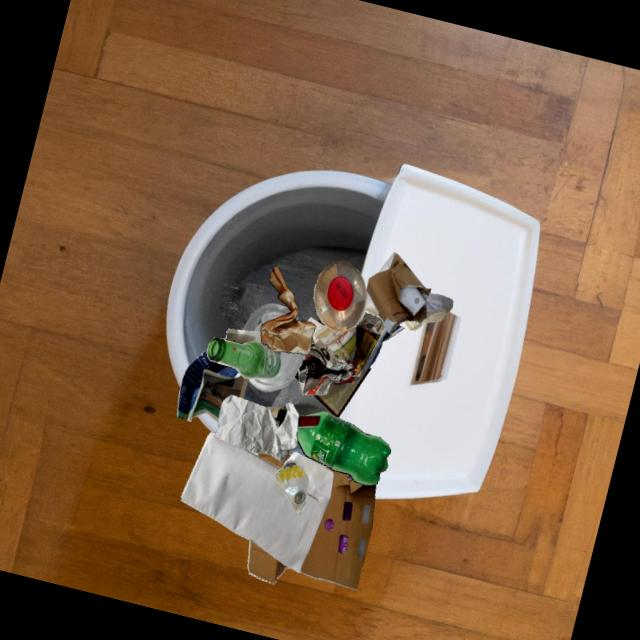cardboard: (299, 484, 375, 590), (278, 465, 333, 567), (365, 252, 431, 334), (312, 367, 370, 417), (298, 321, 316, 394)
glass: (206, 337, 281, 379), (274, 459, 308, 515), (266, 407, 287, 426), (297, 414, 320, 427)
paper: (180, 431, 333, 573), (298, 312, 404, 394), (214, 394, 298, 462), (176, 349, 248, 422), (260, 267, 316, 355), (367, 252, 451, 299), (404, 297, 453, 331)
plastic: (297, 411, 390, 486), (313, 261, 366, 331), (248, 351, 303, 391), (241, 303, 289, 332), (270, 323, 303, 354)
